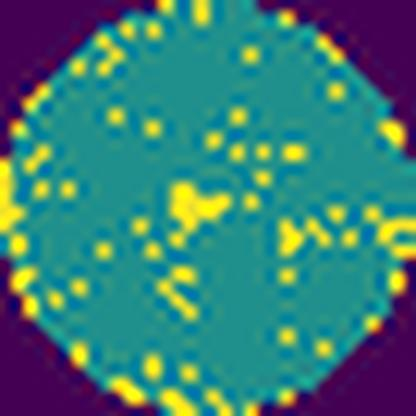Center: (166, 176, 234, 252)
